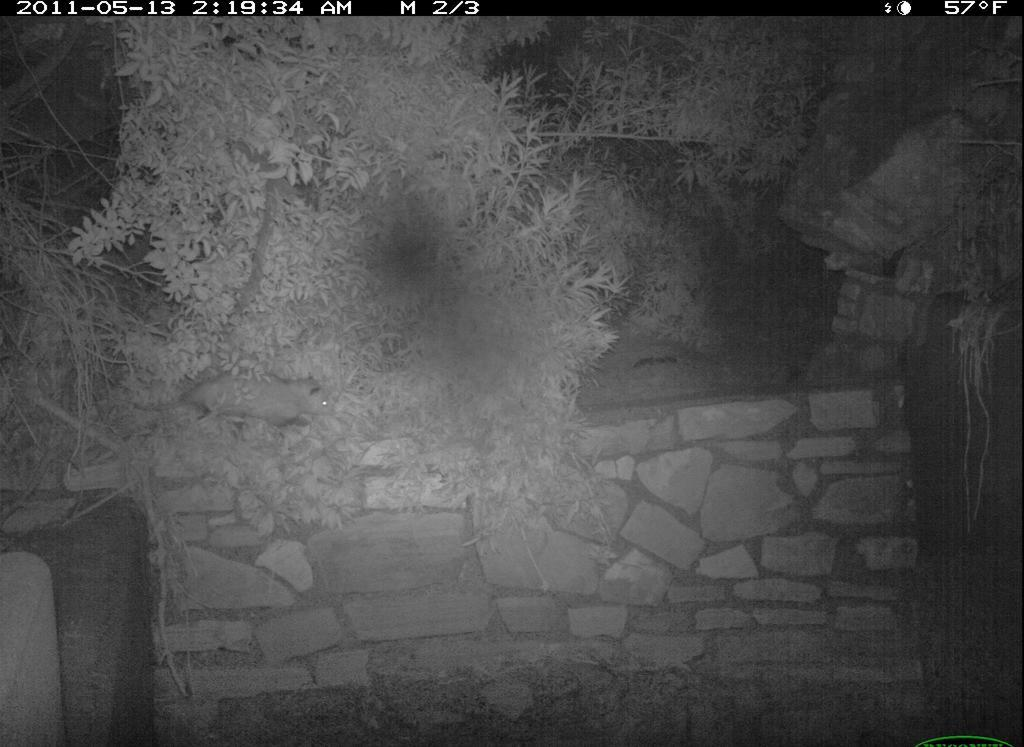opossum: (140, 361, 349, 450)
